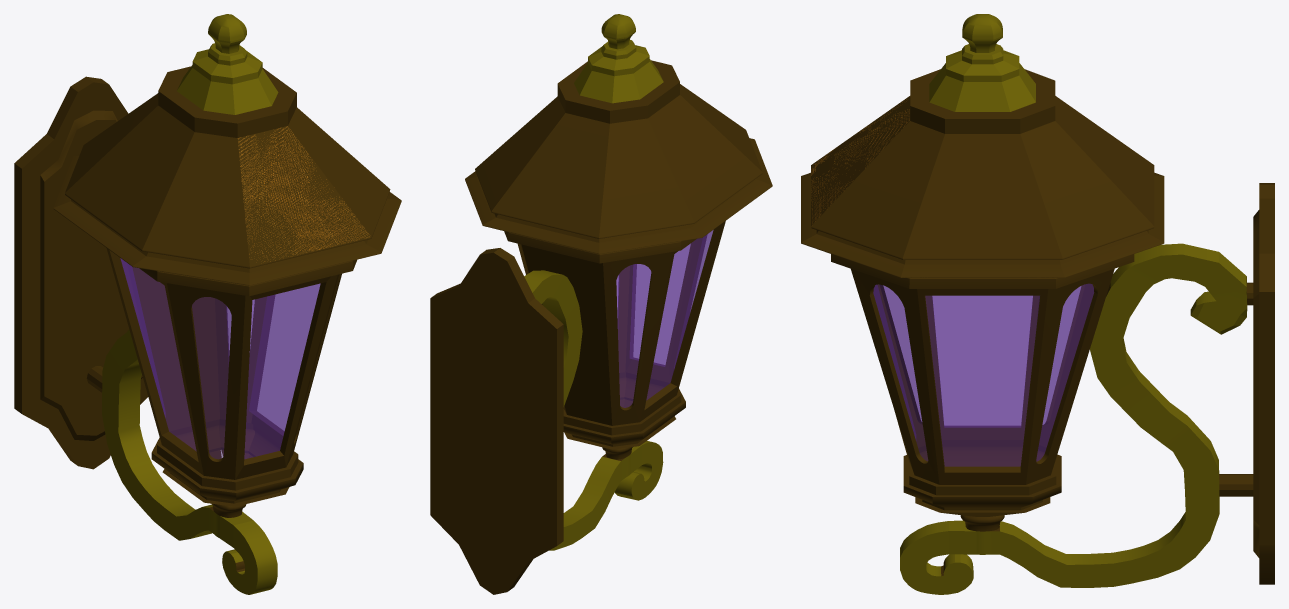
File: wall_light.fbx
3 views of the same model, side by side, from view 1: azimuth 30°, elevation 25°; view 2: azimuth 150°, elevation 25°; view 3: azimuth 270°, elevation 25° (orthographic). The views are drawn at different scales.
Parts seen in each view (by area): view 1: pCube2; view 2: pCube2; view 3: pCube2.
Part boxes in pixels (<box>): pCube2: <box>14,14,401,594</box>; pCube2: <box>430,14,772,594</box>; pCube2: <box>801,14,1274,594</box>.
Bounding box in the file's own units: 0.71 × 1.41 × 1.05.
4 materials, 1 textured.
